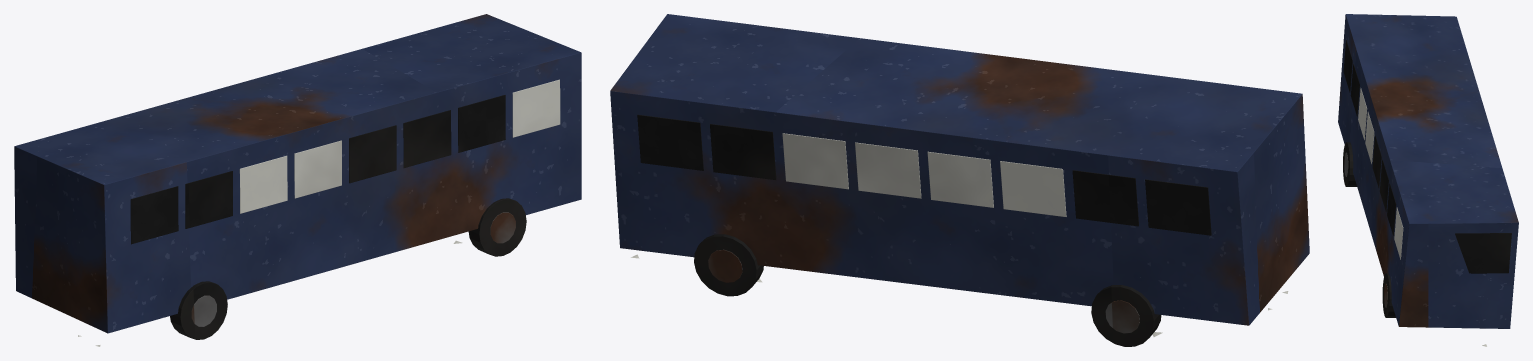
File: JV08_wrecked_city_bus_v2.glb
The picture shows the model from 3 angles, left to right: view 1: azimuth 30°, elevation 25°; view 2: azimuth 150°, elevation 25°; view 3: azimuth 270°, elevation 25°; orthographic projection. The views are drawn at different scales.
Visible parts, largest first — view 1: JV08_wrecked_city_bus_v2; view 2: JV08_wrecked_city_bus_v2; view 3: JV08_wrecked_city_bus_v2.
Part boxes in pixels (x1,y1,x2,y2): JV08_wrecked_city_bus_v2: [14, 14, 581, 346]; JV08_wrecked_city_bus_v2: [610, 14, 1309, 346]; JV08_wrecked_city_bus_v2: [1338, 14, 1518, 346].
Size of the model in its own units: 10 by 3.59 by 3.85.
Materials: 5 (5 with a texture image).
